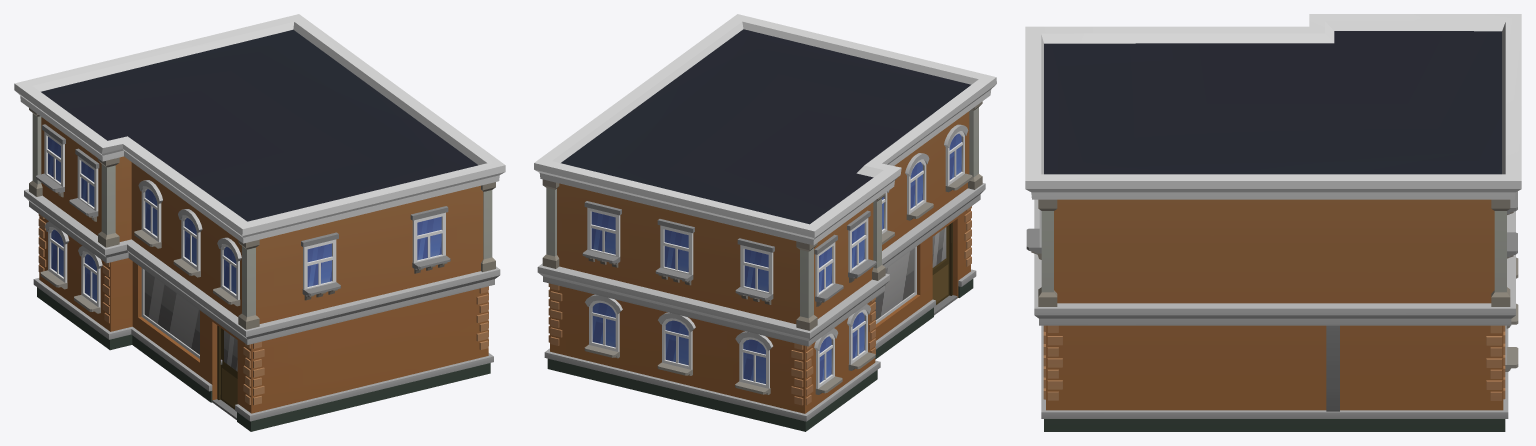
File: Building_1_2_L.fbx
3 views of the same model, side by side, from view 1: azimuth 30°, elevation 25°; view 2: azimuth 150°, elevation 25°; view 3: azimuth 270°, elevation 25° (orthographic). The views are drawn at different scales.
Visible parts, largest first — view 1: Building_1_2_L; view 2: Building_1_2_L; view 3: Building_1_2_L.
Part boxes in pixels (x1,y1,x2,y2): Building_1_2_L: [14, 14, 505, 431]; Building_1_2_L: [534, 14, 996, 431]; Building_1_2_L: [1025, 14, 1521, 431].
Bounding box in the file's own units: 841 × 600 × 1057.
